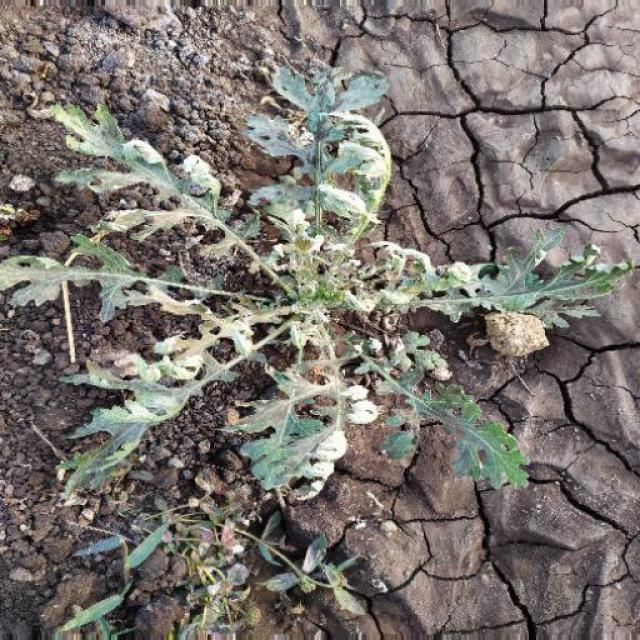weed: (10, 95, 640, 515)
